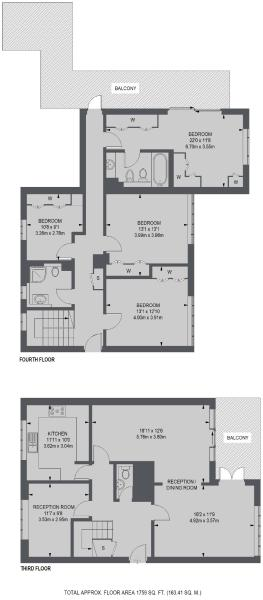GrossArea: (62, 583, 204, 600)
